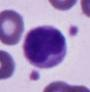L: (22, 25, 68, 69)
